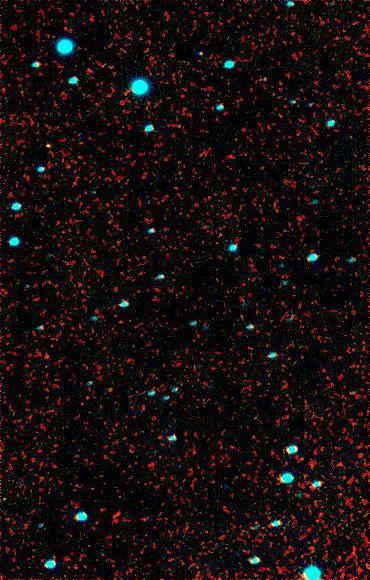star: (32, 130, 62, 160)
